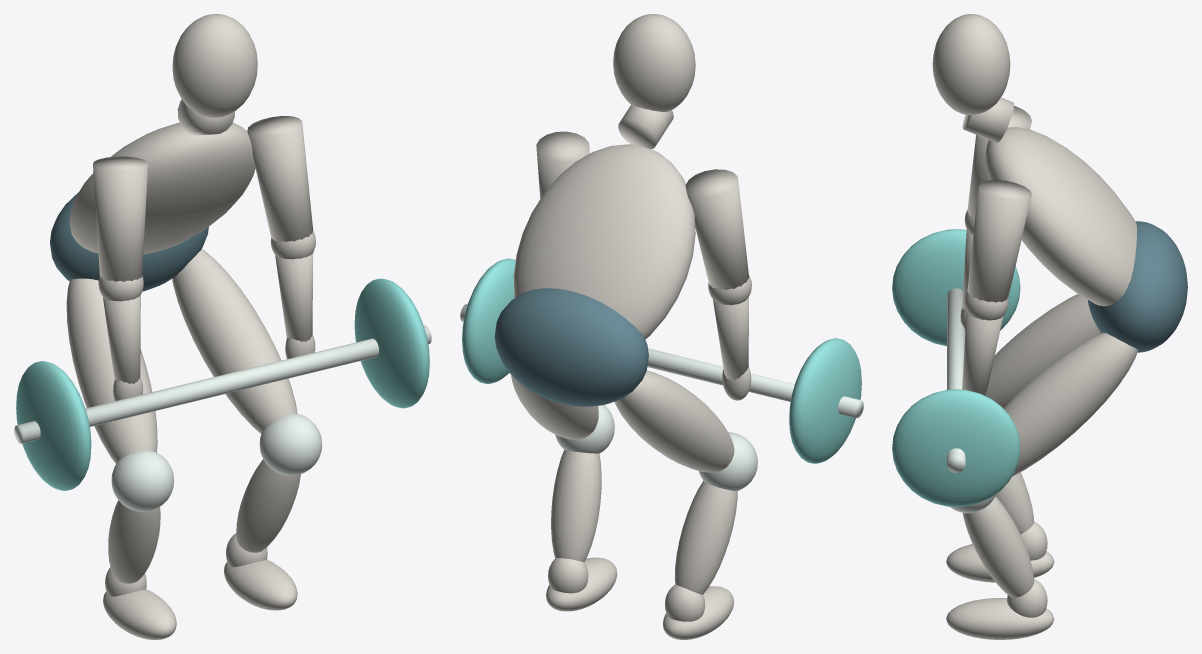
Rendered from movement-hinge.glb.
3 views of the same model, side by side, from view 1: azimuth 30°, elevation 25°; view 2: azimuth 150°, elevation 25°; view 3: azimuth 270°, elevation 25° (orthographic). The views are drawn at different scales.
Visible parts, largest first — view 1: static #eee5d3, static #49bdb4, static #c7ddd2, static #203c48; view 2: static #eee5d3, static #203c48, static #49bdb4, static #c7ddd2; view 3: static #eee5d3, static #49bdb4, static #203c48, static #c7ddd2.
Part boxes in pixels (x1,y1,x2,y2): static #eee5d3: (66, 14, 315, 639); static #49bdb4: (16, 278, 429, 490); static #c7ddd2: (14, 325, 431, 511); static #203c48: (50, 192, 208, 291); static #eee5d3: (511, 14, 751, 639); static #203c48: (494, 288, 648, 406); static #49bdb4: (462, 258, 861, 463); static #c7ddd2: (460, 304, 863, 491); static #eee5d3: (932, 14, 1137, 639); static #49bdb4: (892, 229, 1020, 506); static #203c48: (1088, 221, 1187, 352); static #c7ddd2: (947, 288, 995, 513).
Bounding box in the file's own units: 0.27 × 0.3855 × 0.175.
